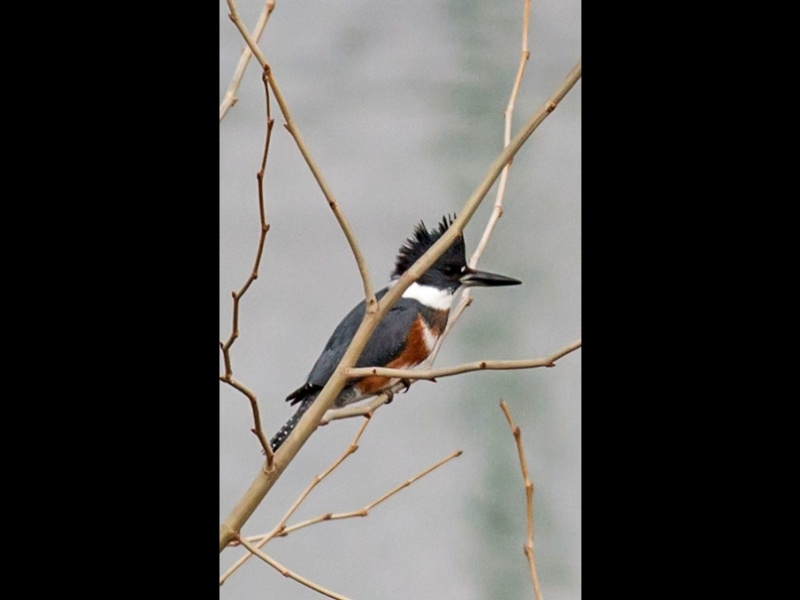kingfisher: (269, 208, 524, 457)
